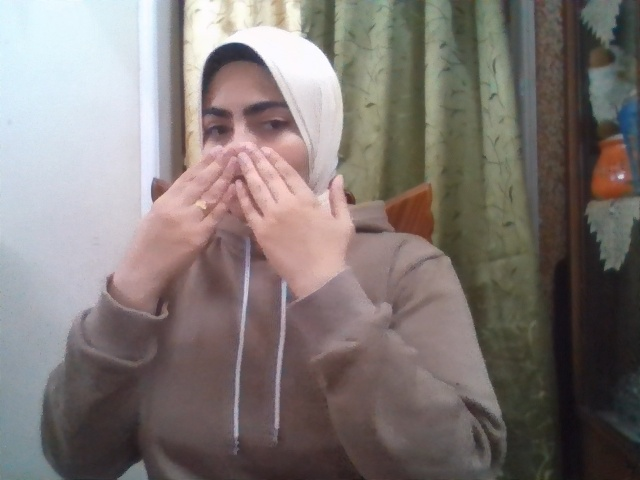thanks: (114, 145, 354, 286)
